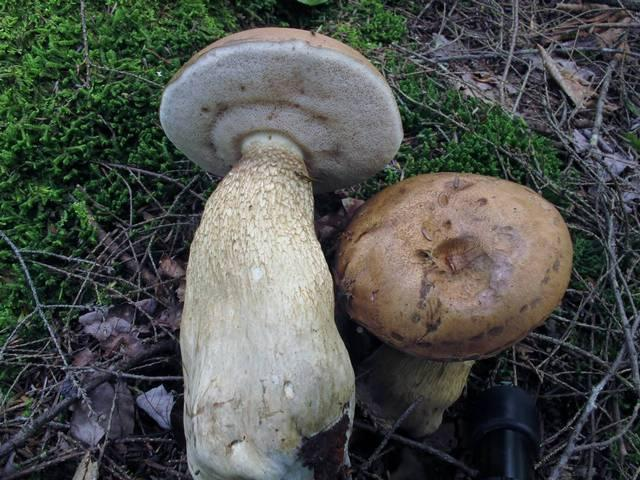poisonous_mushroom: (157, 25, 404, 479), (332, 169, 574, 440)
